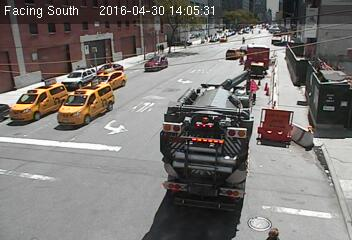neg: (146, 143, 181, 190)
pos: (158, 43, 168, 56), (239, 35, 247, 45)
